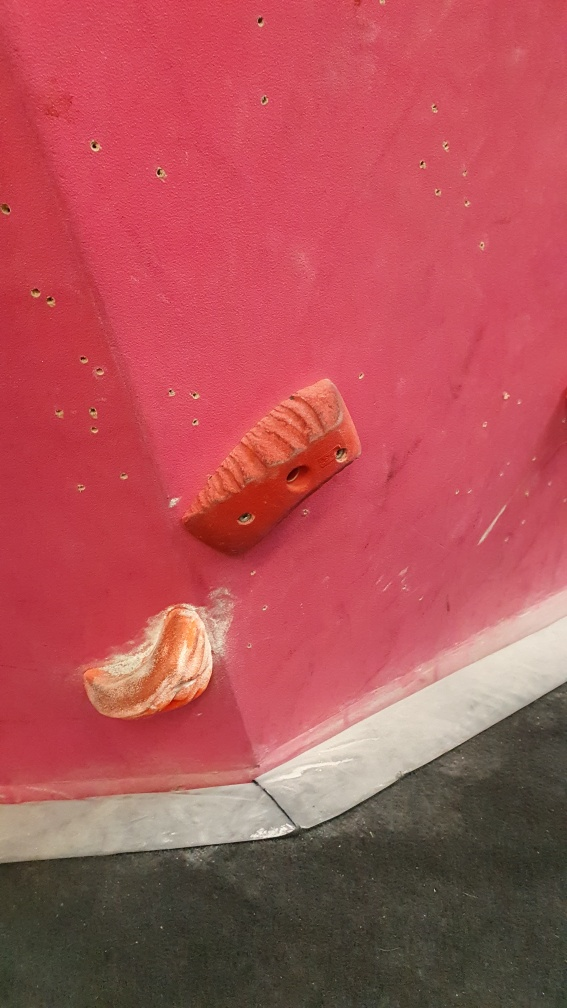Crimp: (179, 372, 364, 562)
Jug: (83, 601, 219, 723)
